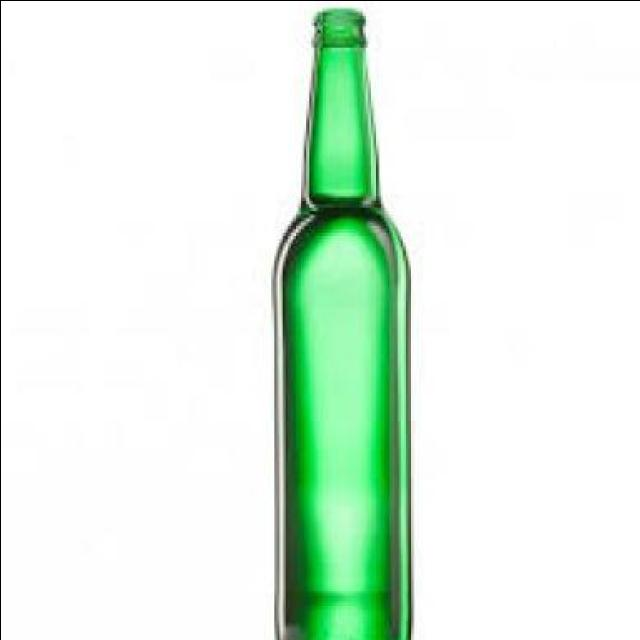kaca: (272, 5, 408, 640)
